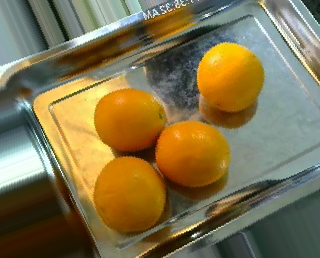Orange: (92, 155, 163, 234), (155, 119, 231, 186), (196, 40, 265, 112), (94, 88, 166, 150)
